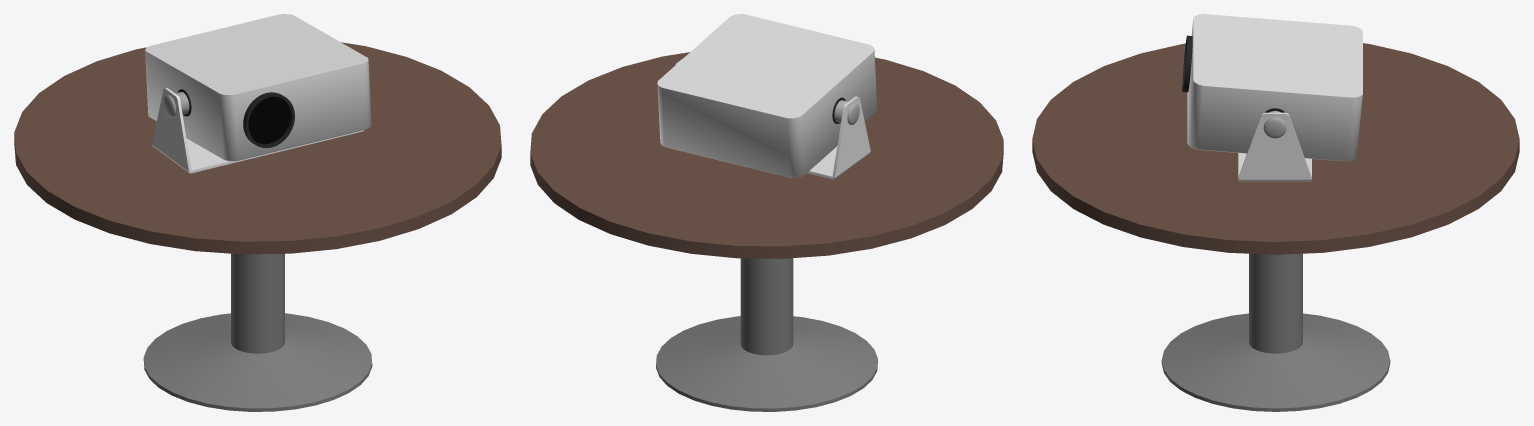
Rendered from Pre_Equi_1.glb.
3 views of the same model, side by side, from view 1: azimuth 30°, elevation 25°; view 2: azimuth 150°, elevation 25°; view 3: azimuth 270°, elevation 25° (orthographic). The views are drawn at different scales.
Parts seen in each view (by area): view 1: Cube_plastic_0; view 2: Cube_plastic_0; view 3: Cube_plastic_0.
Boxes of the visible parts, bbox=[...] form: Cube_plastic_0: bbox=[14, 14, 501, 411]; Cube_plastic_0: bbox=[530, 14, 1003, 411]; Cube_plastic_0: bbox=[1032, 14, 1519, 411].
Size of the model in its own units: 2 by 1.42 by 2.
